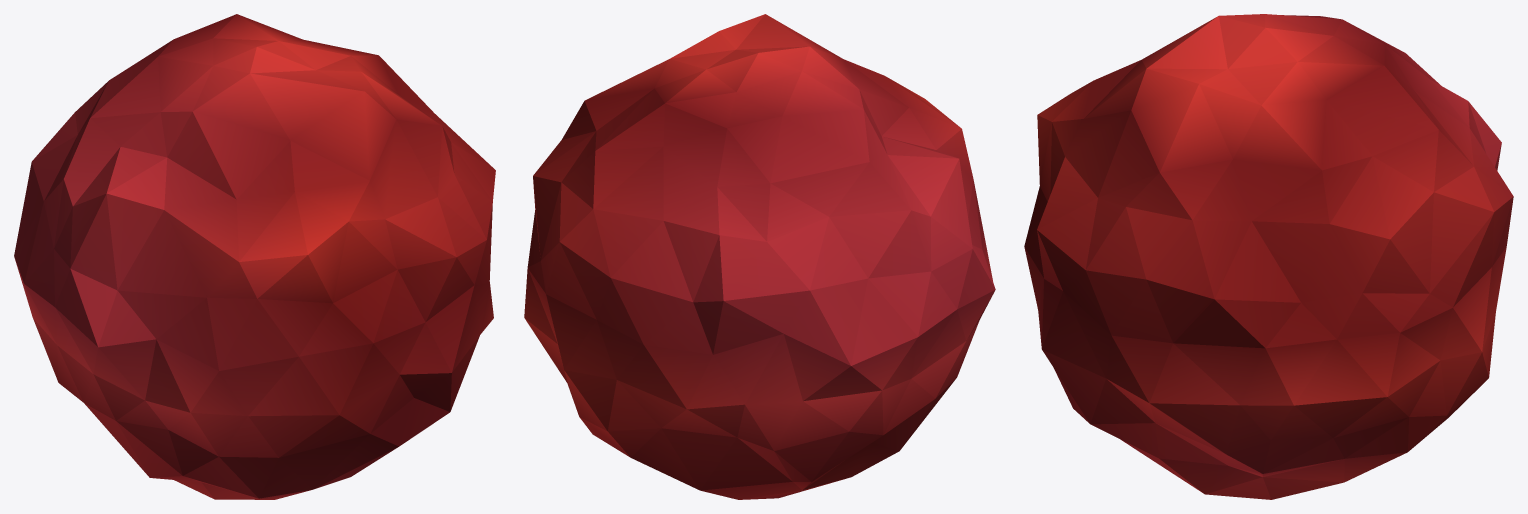
File: Generic_Planets_Planet_Generic_BrownDwarf.fbx
3 renders of one model, left to right at view 1: azimuth 30°, elevation 25°; view 2: azimuth 150°, elevation 25°; view 3: azimuth 270°, elevation 25°, orthographic. The views are drawn at different scales.
Parts seen in each view (by area): view 1: Planet_Generic_BrownDwarf; view 2: Planet_Generic_BrownDwarf; view 3: Planet_Generic_BrownDwarf.
Boxes of the visible parts, x1,y1,x2,y2 form: Planet_Generic_BrownDwarf: (14,14,495,499); Planet_Generic_BrownDwarf: (524,14,995,499); Planet_Generic_BrownDwarf: (1024,14,1513,499).
Bounding box in the file's own units: 20.63 × 20.21 × 20.29.
